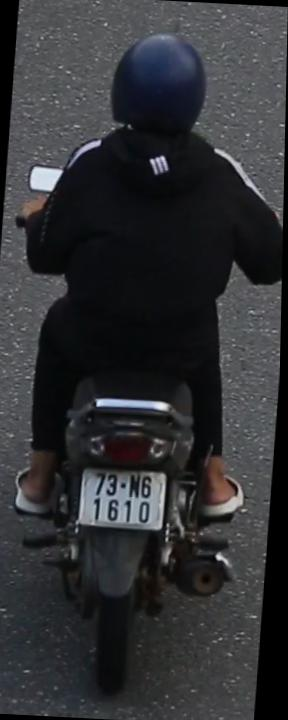LP: (76, 458, 173, 536)
helmet: (104, 21, 226, 171)
